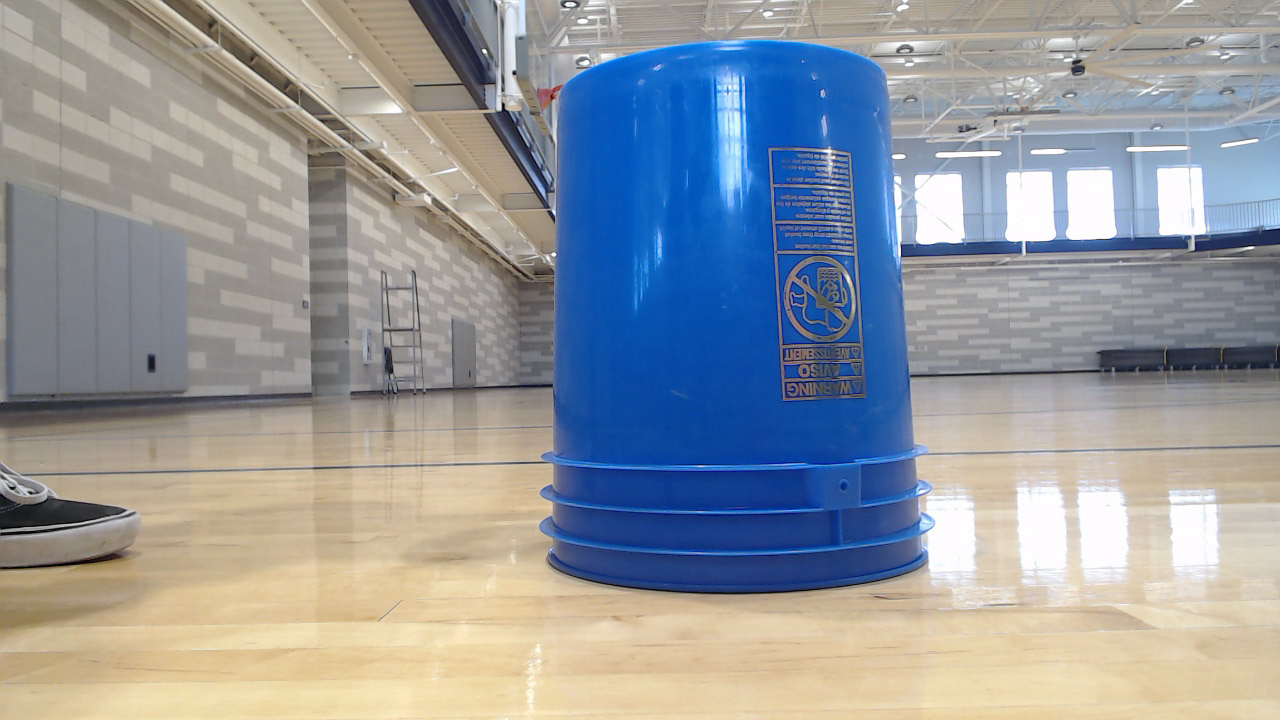blue_bucket: (545, 46, 942, 601)
